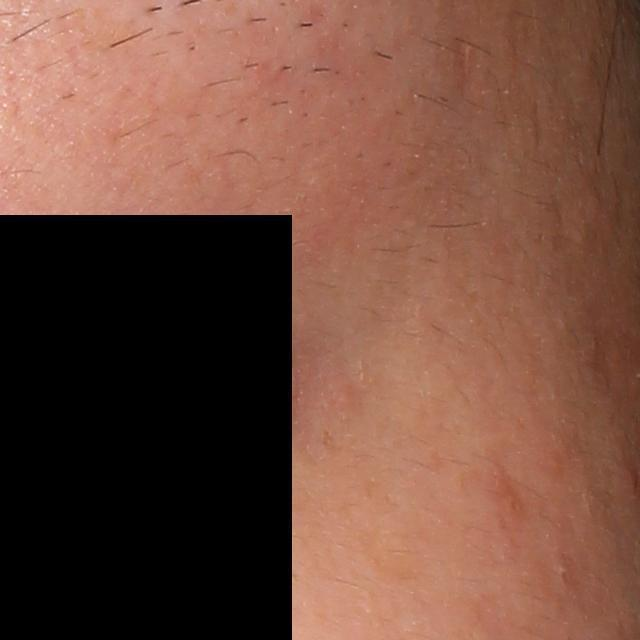papule: (624, 462, 639, 496)
